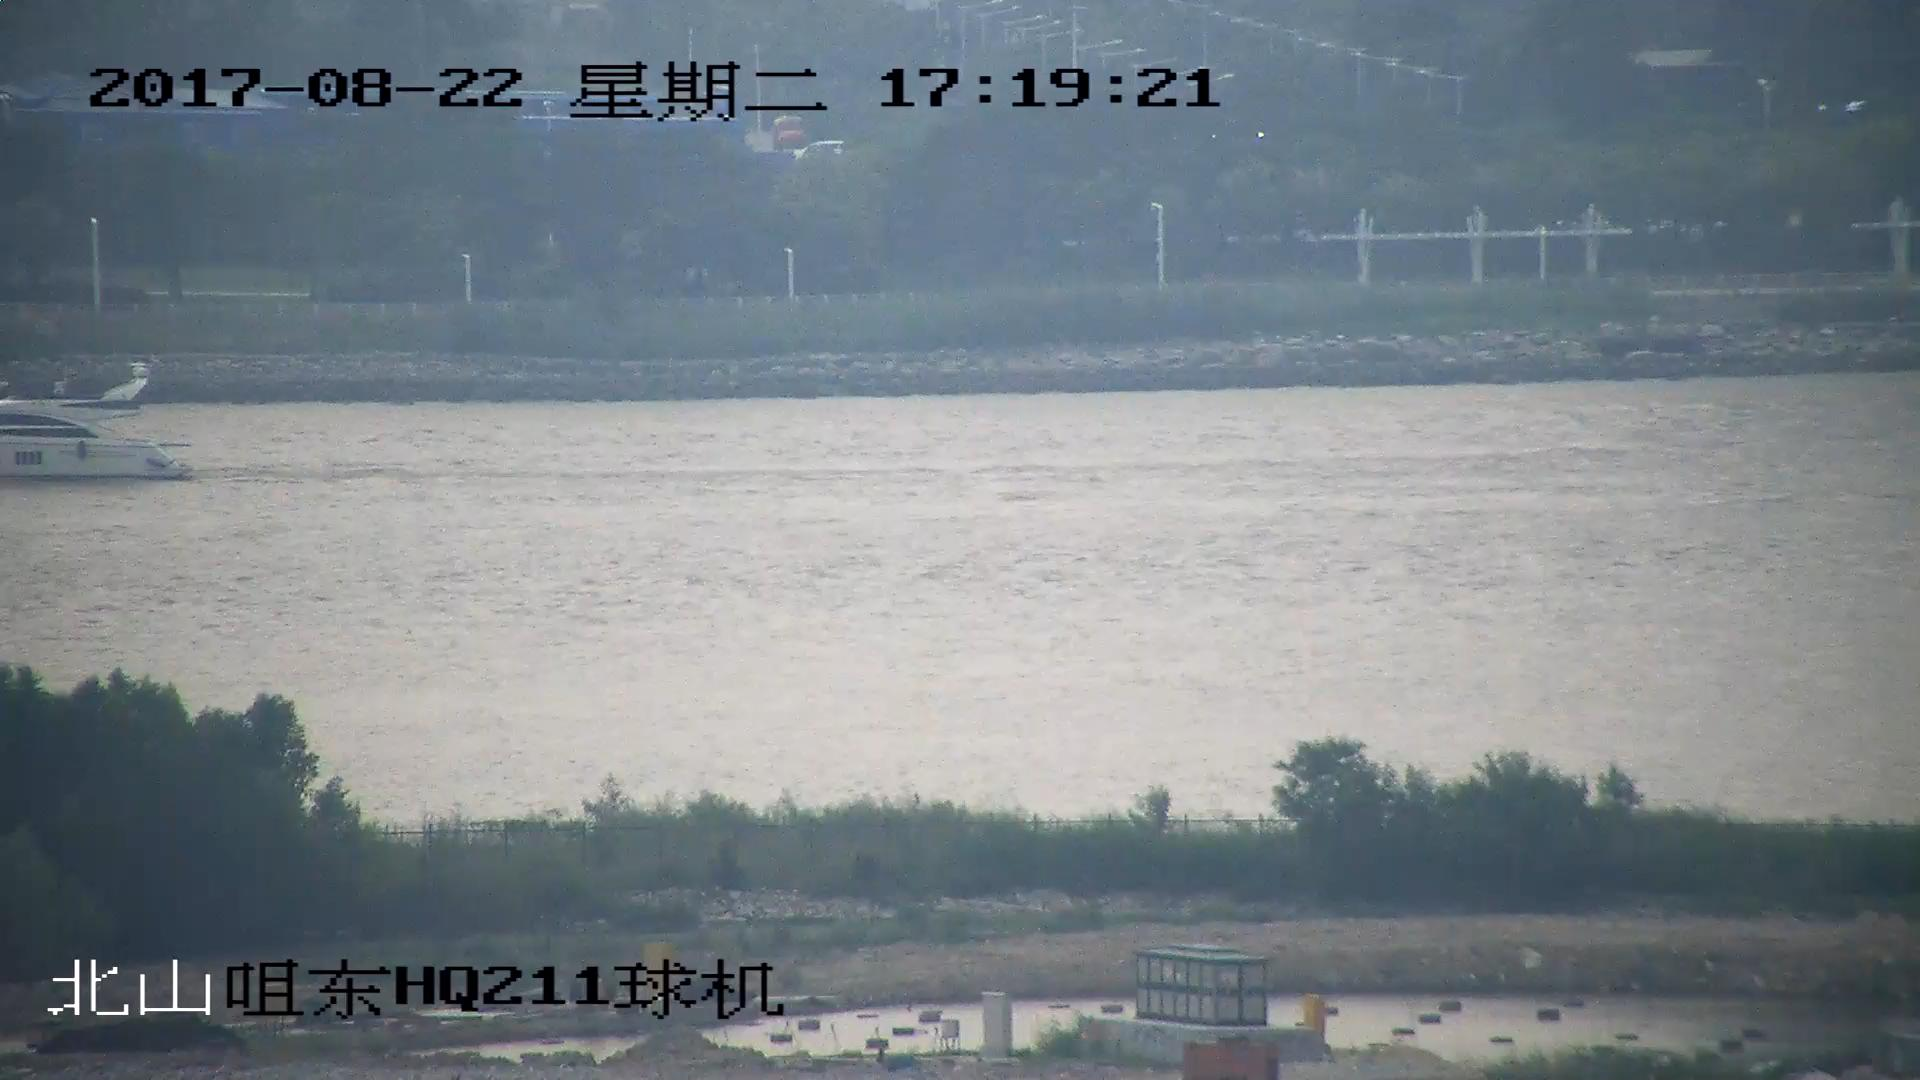passenger ship: (1, 360, 196, 485)
